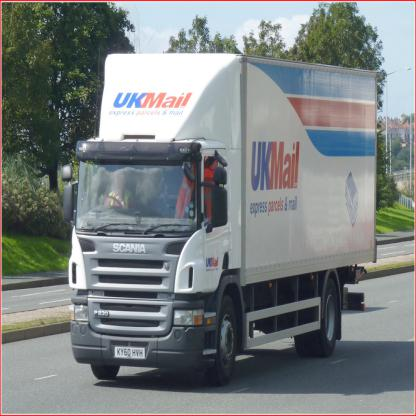Truck: (58, 48, 383, 393)
